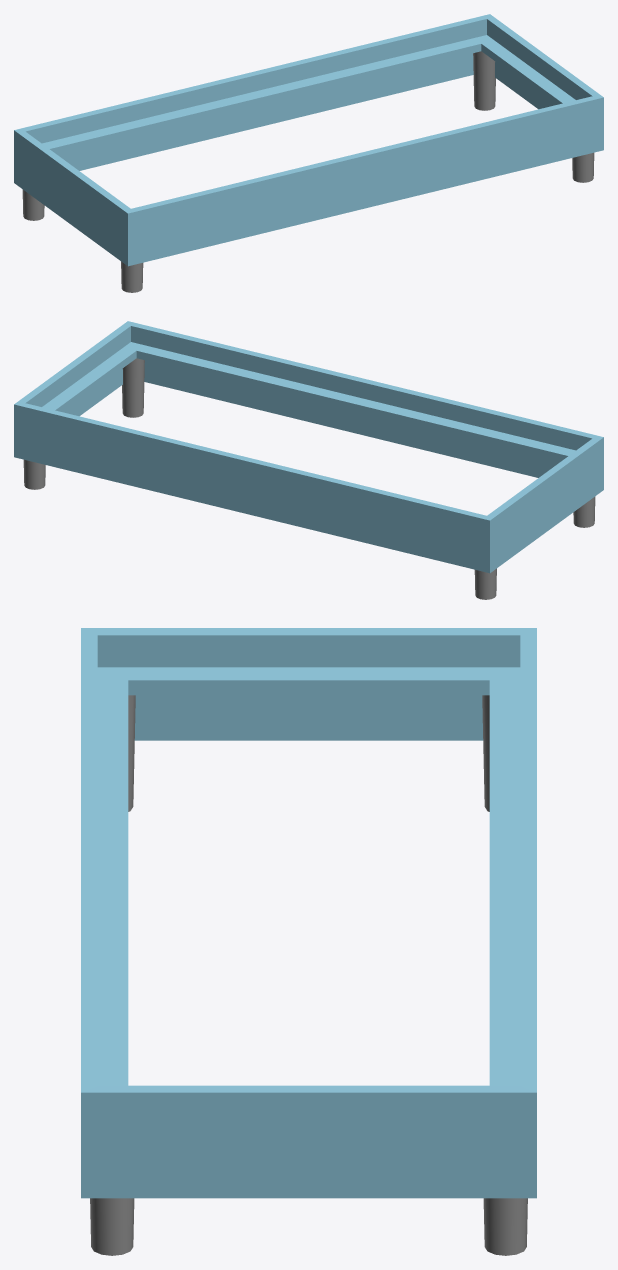
The model's file is FURNITURE_singleBed_02.FBX.
3 renders of one model, top to bottom at view 1: azimuth 30°, elevation 25°; view 2: azimuth 150°, elevation 25°; view 3: azimuth 270°, elevation 25°, orthographic. The views are drawn at different scales.
Parts seen in each view (by area): view 1: FURNITURE_singleBed_02; view 2: FURNITURE_singleBed_02; view 3: FURNITURE_singleBed_02.
Part boxes in pixels (<box>): FURNITURE_singleBed_02: <box>14,14,603,292</box>; FURNITURE_singleBed_02: <box>14,321,603,599</box>; FURNITURE_singleBed_02: <box>81,628,536,1255</box>.
Bounding box in the file's own units: 254 × 42.64 × 105.
